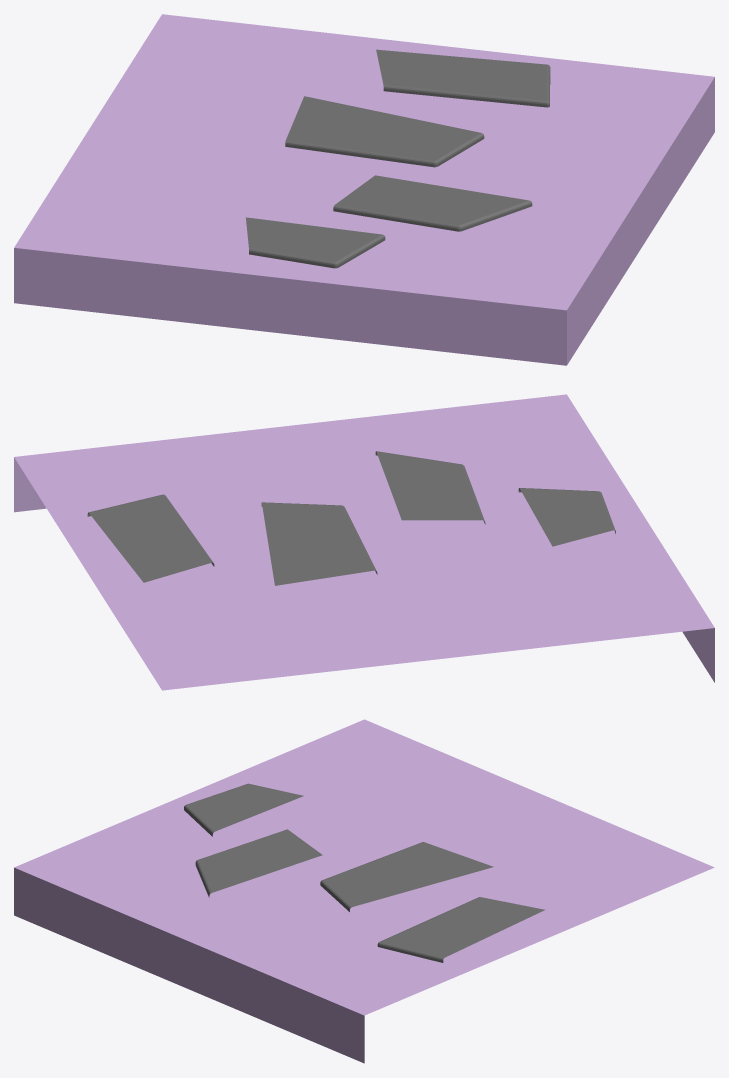
File: SupportFloor.gltf
The picture shows the model from 3 angles, top to bottom: view 1: azimuth 30°, elevation 25°; view 2: azimuth 150°, elevation 25°; view 3: azimuth 270°, elevation 25°; orthographic projection. The views are drawn at different scales.
Visible parts, largest first — view 1: Contact Area Floor; view 2: Contact Area Floor; view 3: Contact Area Floor.
Boxes of the visible parts, box(x1,y1,x2,y2) form: Contact Area Floor: box(14, 14, 714, 365); Contact Area Floor: box(14, 394, 714, 690); Contact Area Floor: box(14, 719, 714, 1063).
Size of the model in its own units: 5.5 by 0.4736 by 5.5.
